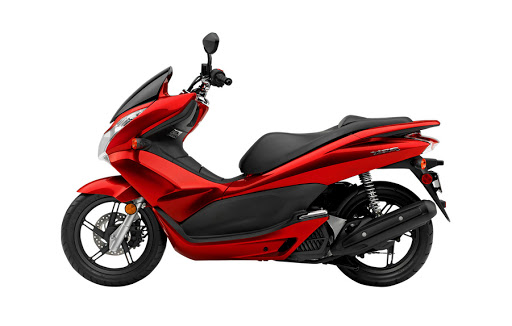motorcycle: (59, 32, 450, 287)
